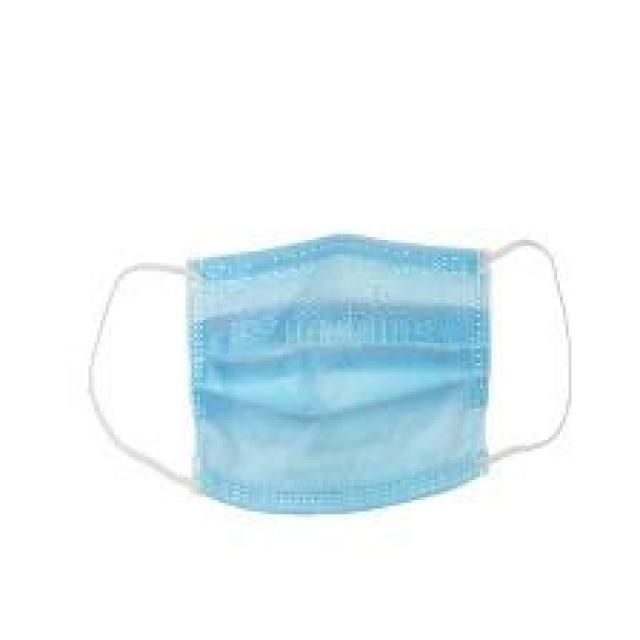Mask: (40, 174, 613, 540)
